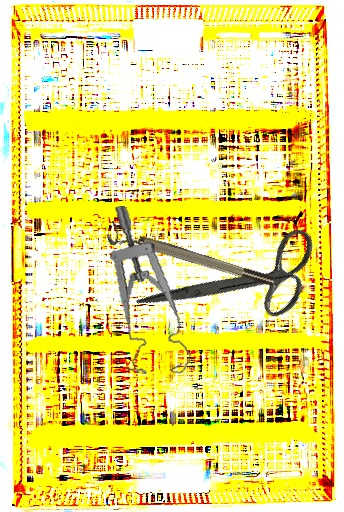Fixation Ring: (104, 220, 277, 297)
Iris Scissors: (135, 181, 338, 383)
Speculum: (93, 205, 210, 380)
